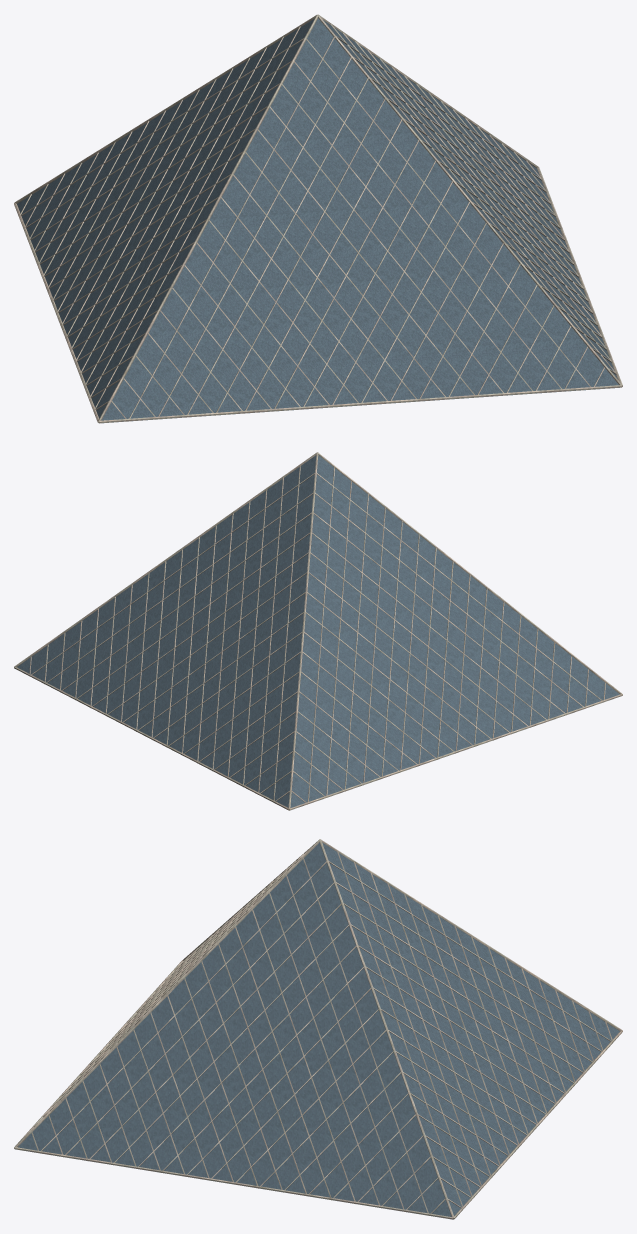
File: louvre-pyramid.glb
3 views of the same model, one above another, from view 1: azimuth 30°, elevation 25°; view 2: azimuth 150°, elevation 25°; view 3: azimuth 270°, elevation 25° (orthographic). The views are drawn at different scales.
Parts seen in each view (by area): view 1: glass, trim; view 2: glass, trim; view 3: glass, trim.
Part boxes in pixels (x1,y1,x2,y2): glass: [17, 18, 619, 423]; trim: [14, 14, 622, 423]; glass: [17, 455, 619, 807]; trim: [14, 452, 622, 810]; glass: [15, 842, 619, 1218]; trim: [14, 839, 622, 1219].
Bounding box in the file's own units: 47.89 × 21.72 × 47.66.
Materials: 2 (2 with a texture image).
